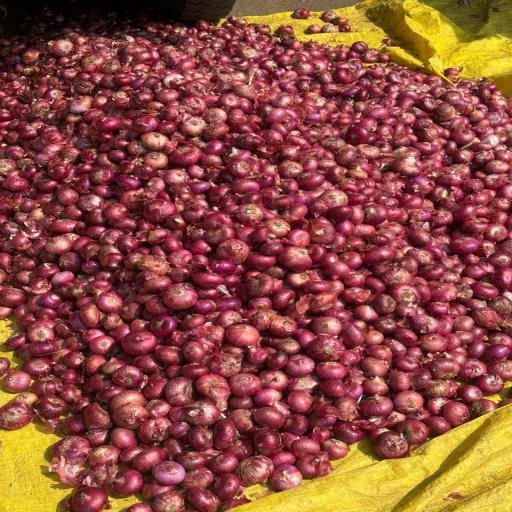healthy: (55, 485, 119, 511), (119, 329, 160, 357), (308, 336, 350, 361), (226, 322, 262, 351), (356, 392, 392, 420), (358, 244, 394, 272), (137, 199, 179, 223), (313, 378, 356, 400), (252, 405, 287, 432), (153, 459, 187, 486), (108, 472, 146, 496), (279, 246, 314, 272), (211, 476, 245, 502), (148, 490, 185, 512), (448, 234, 483, 257), (392, 390, 424, 415), (166, 145, 200, 168), (190, 268, 225, 290), (309, 316, 349, 335), (442, 401, 472, 426), (283, 354, 314, 377), (264, 105, 295, 128), (418, 332, 450, 354), (290, 438, 322, 460), (360, 355, 392, 377), (97, 204, 131, 224), (209, 452, 238, 475), (18, 360, 55, 378), (232, 177, 262, 199), (280, 203, 313, 223), (317, 360, 348, 381), (182, 343, 213, 364), (286, 390, 313, 414), (303, 272, 330, 296), (0, 285, 27, 309), (295, 172, 327, 192), (79, 303, 101, 332), (427, 283, 456, 305), (321, 440, 352, 460), (182, 116, 210, 138), (142, 274, 176, 292), (363, 103, 392, 124), (327, 204, 357, 224), (27, 338, 57, 358), (130, 115, 160, 135), (44, 163, 73, 183), (476, 374, 505, 394), (91, 115, 123, 133), (362, 376, 388, 398), (6, 171, 29, 195), (325, 260, 351, 281), (453, 203, 479, 224), (356, 302, 380, 324), (50, 267, 74, 289), (54, 189, 83, 207), (154, 86, 180, 106), (452, 128, 479, 147), (254, 388, 281, 407), (458, 386, 486, 404), (472, 282, 500, 300), (48, 38, 76, 56), (108, 428, 136, 446), (344, 126, 370, 145), (117, 173, 143, 192), (219, 90, 243, 110), (334, 147, 358, 167), (46, 236, 72, 254), (114, 235, 141, 252), (101, 252, 126, 270), (65, 98, 95, 113), (202, 140, 230, 156), (418, 264, 446, 280), (190, 238, 214, 256), (187, 179, 213, 195), (303, 112, 330, 127), (40, 292, 63, 309), (260, 130, 284, 146), (332, 66, 353, 84), (413, 141, 438, 156), (12, 235, 34, 252), (175, 58, 199, 73), (109, 74, 134, 88), (106, 149, 131, 163), (161, 238, 184, 253), (132, 51, 153, 63), (350, 41, 369, 54), (301, 158, 317, 173), (320, 10, 338, 21), (240, 33, 258, 44), (307, 24, 323, 34)
